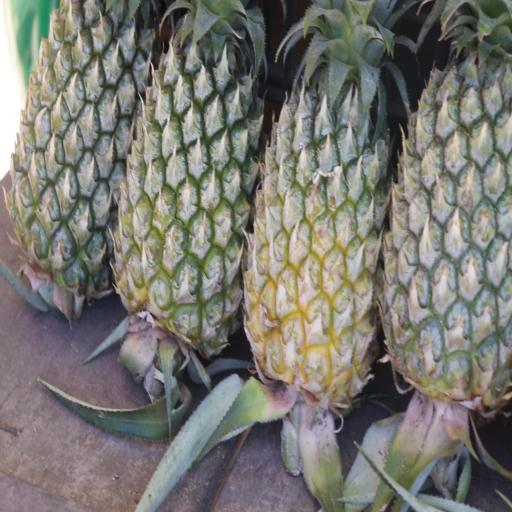------------------------------: (240, 0, 404, 418)
